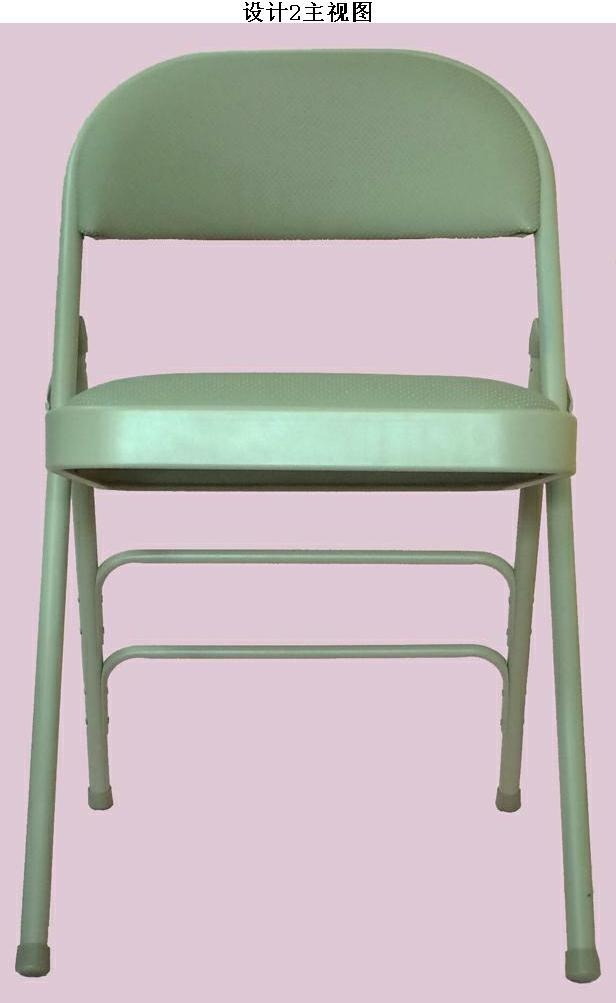obstacle: (16, 50, 599, 981)
